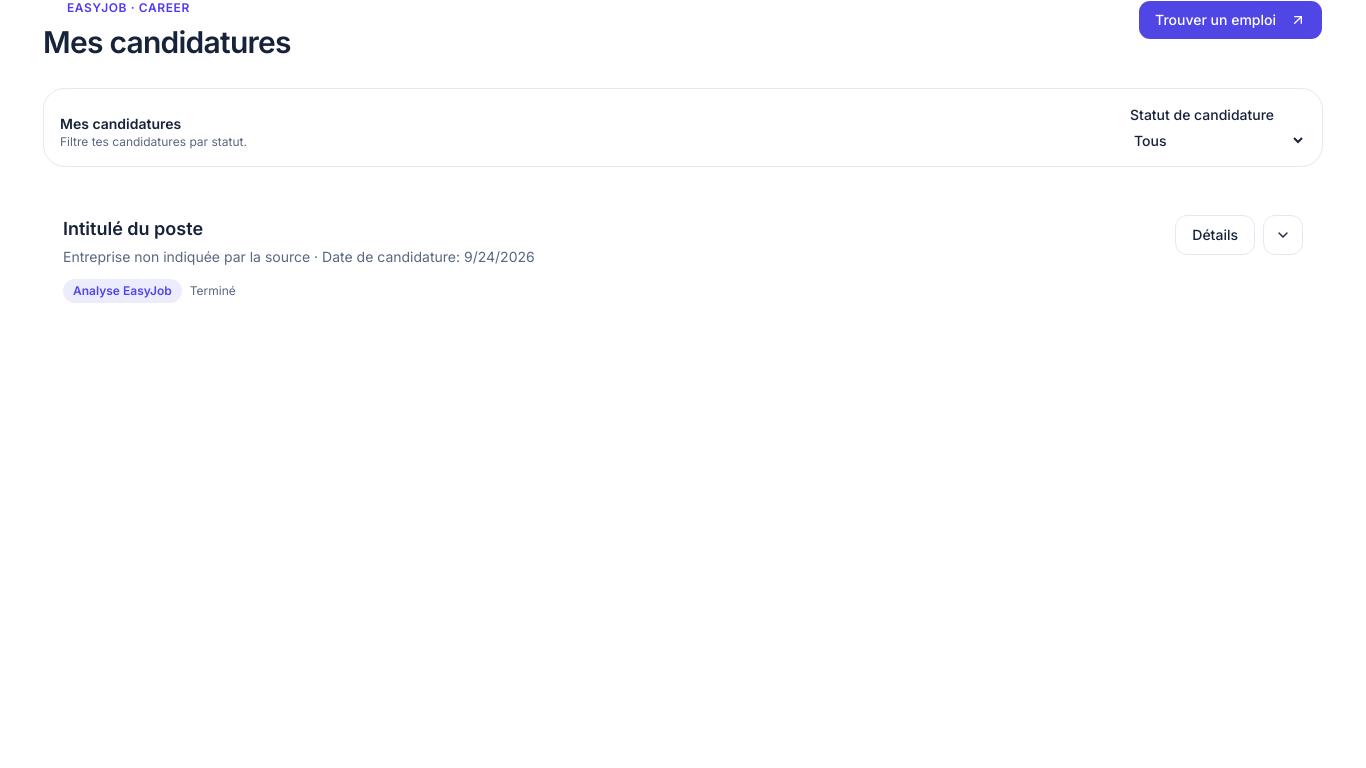
Test case: automatically refetches and advances the visible workflow when a recruiter event arrives
This screenshot has width=1366, height=768.
Click the button named "Ouvrir la candidature": (1283, 235) 1263,215 -> 1303,255
(page scrolled)
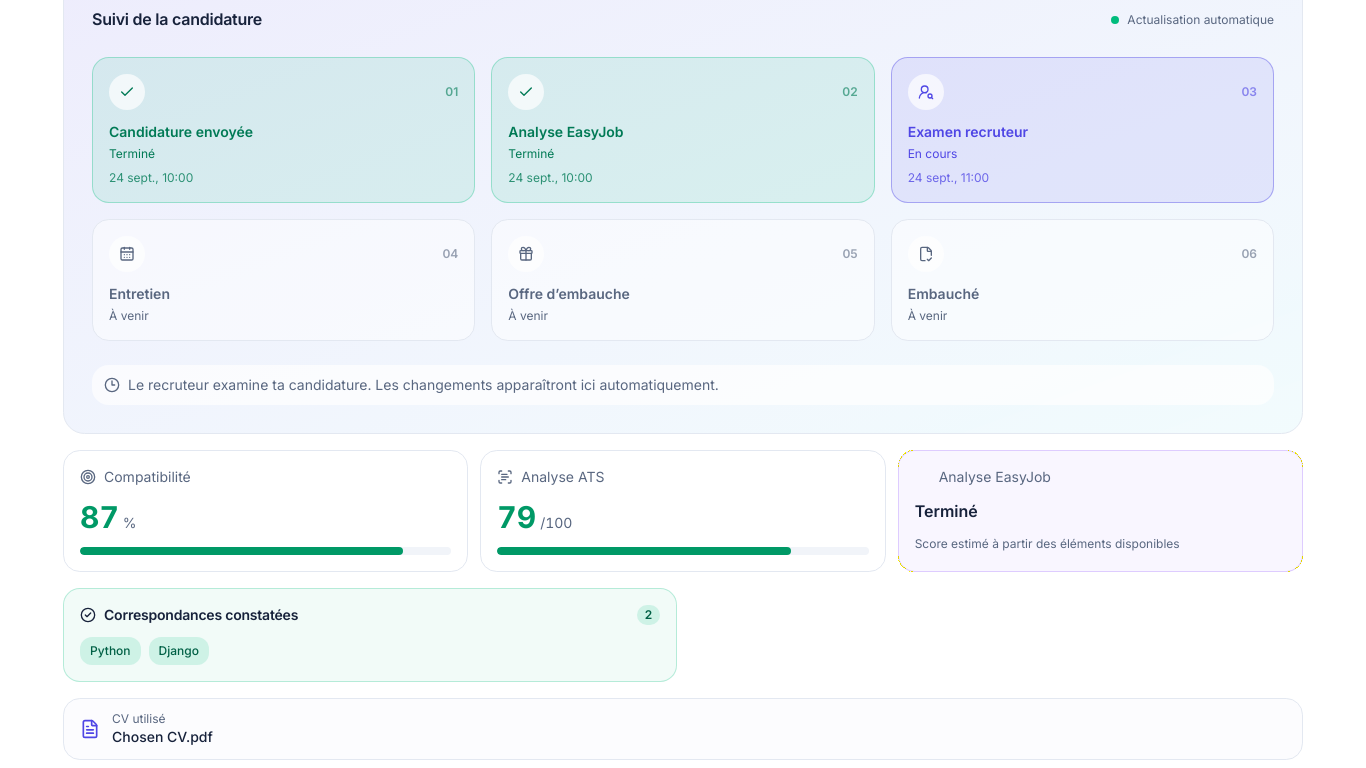
Now the text "Analyse terminée. En attente" is shown, box 128,375 -> 719,395
Now the message shows "Le recruteur examine", box 128,376 -> 719,393
